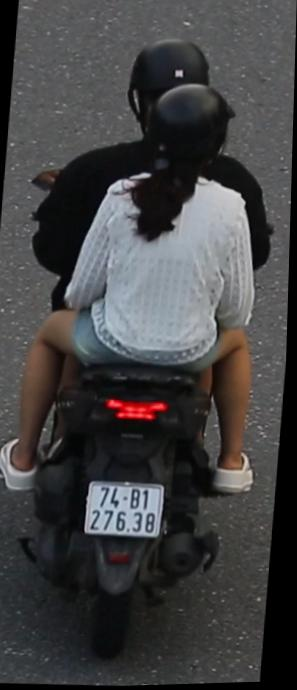LP: (83, 475, 172, 547)
helmet: (142, 80, 239, 179), (123, 33, 220, 118)
